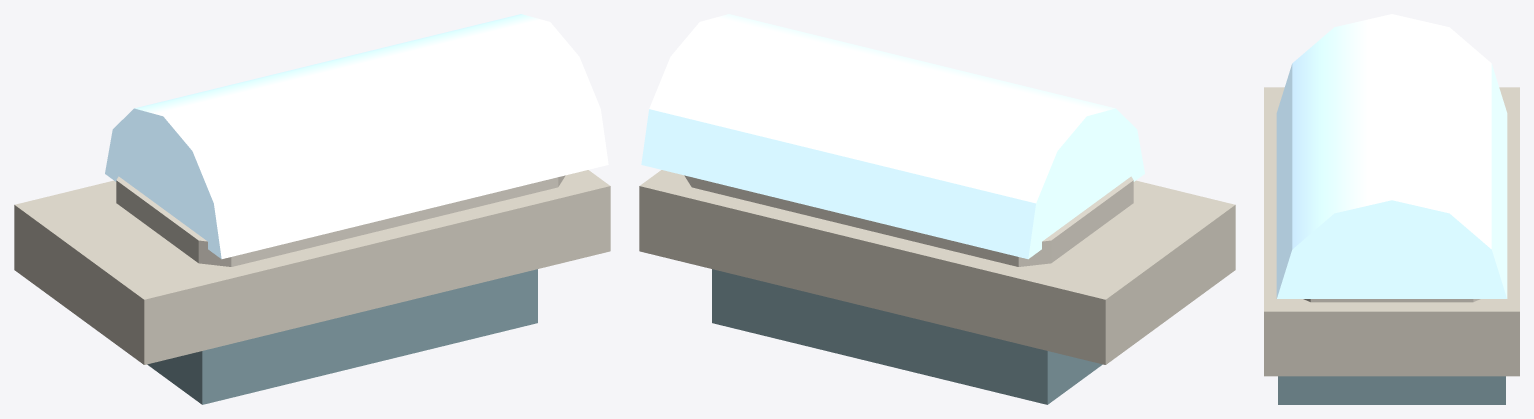
File: prop_medpod_v4_ShadowProxy.glb
3 renders of one model, left to right at view 1: azimuth 30°, elevation 25°; view 2: azimuth 150°, elevation 25°; view 3: azimuth 270°, elevation 25°, orthographic.
Visible parts, largest first — view 1: prop_medpod_v4_ShadowProxy / Primary assembly; view 2: prop_medpod_v4_ShadowProxy / Primary assembly; view 3: prop_medpod_v4_ShadowProxy / Primary assembly.
Part boxes in pixels (left/top/right/bottom): prop_medpod_v4_ShadowProxy / Primary assembly: left=14, top=14, right=610, bottom=404; prop_medpod_v4_ShadowProxy / Primary assembly: left=639, top=14, right=1235, bottom=404; prop_medpod_v4_ShadowProxy / Primary assembly: left=1264, top=14, right=1519, bottom=404.
Size of the model in its own units: 2.26 by 1.11 by 1.08.
